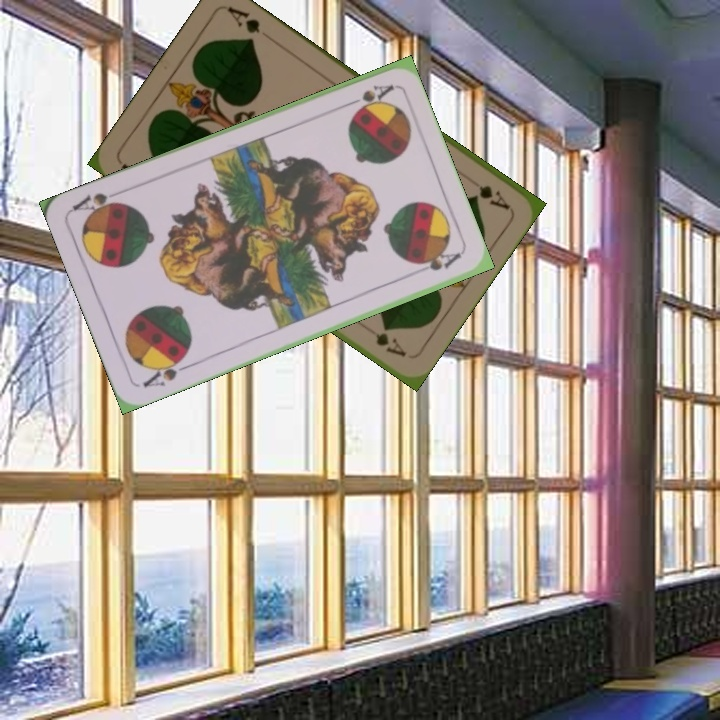GA: (461, 171, 513, 212)
SA: (139, 351, 194, 390), (339, 80, 396, 113)
